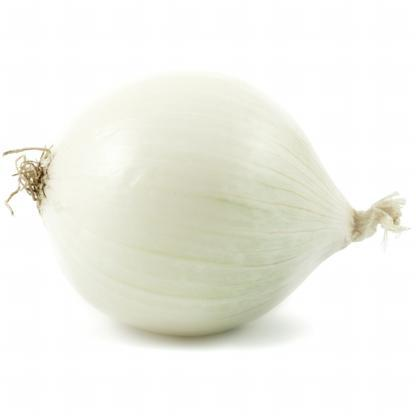onion: (20, 66, 389, 380)
